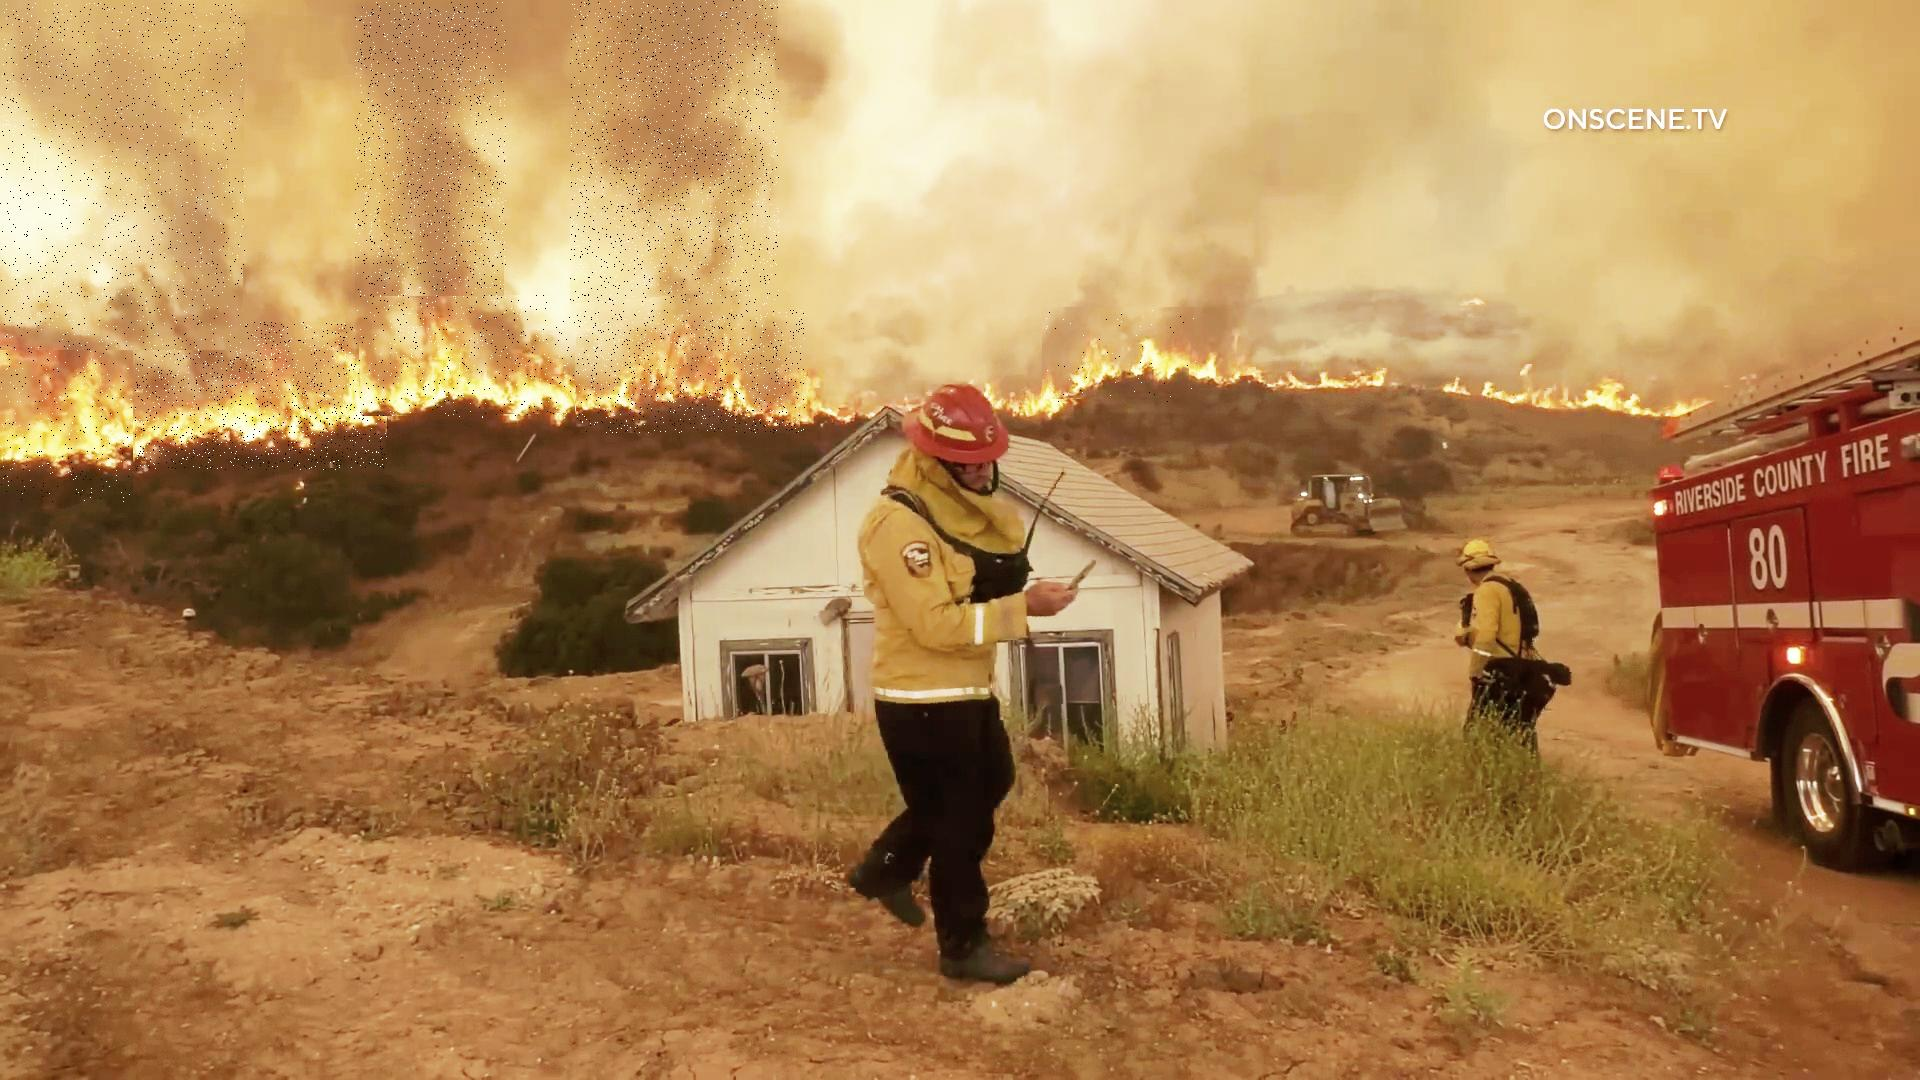fire: (135, 323, 388, 471), (576, 310, 806, 433), (357, 295, 575, 418), (0, 332, 133, 502), (1043, 307, 1197, 402)
smoke: (0, 3, 245, 349), (570, 0, 779, 305), (356, 3, 506, 299)
